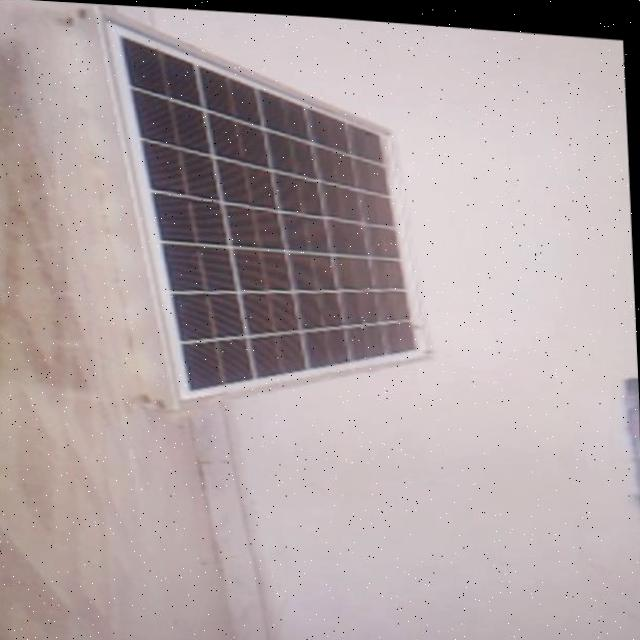Normal Solar Panel: (60, 2, 442, 424)
